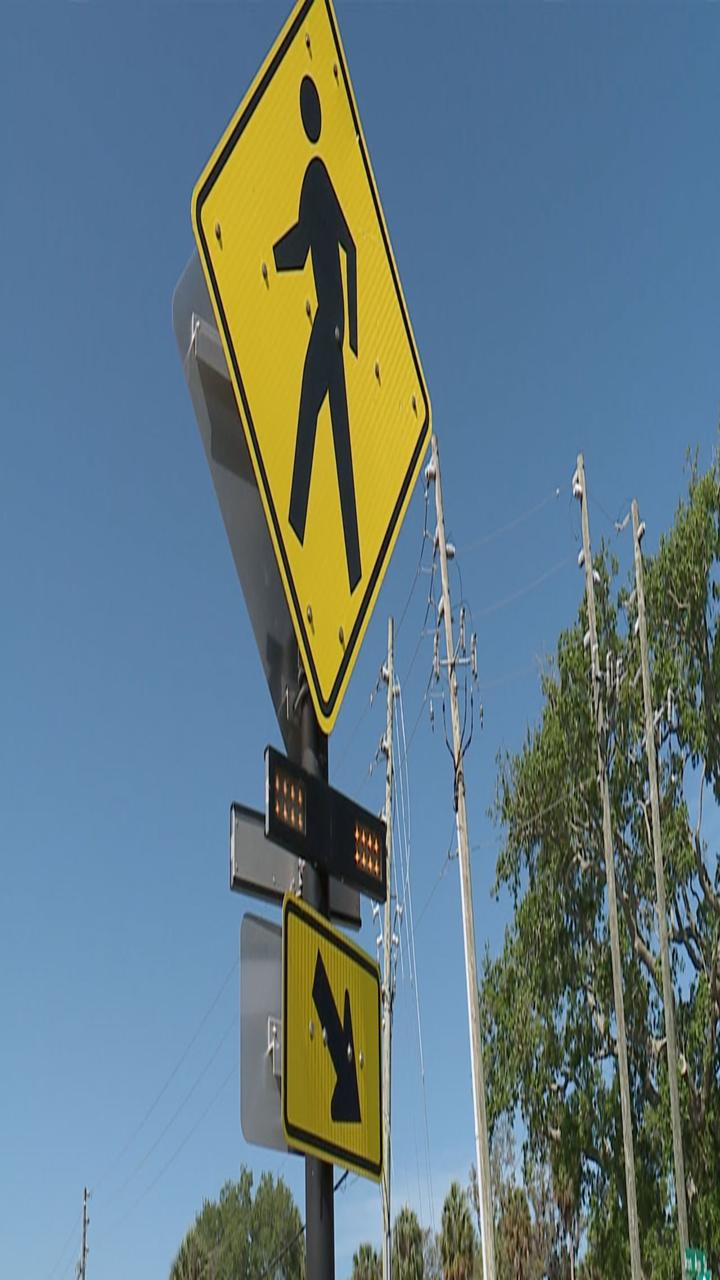Traffic sign: (134, 4, 471, 740), (252, 887, 420, 1189)
